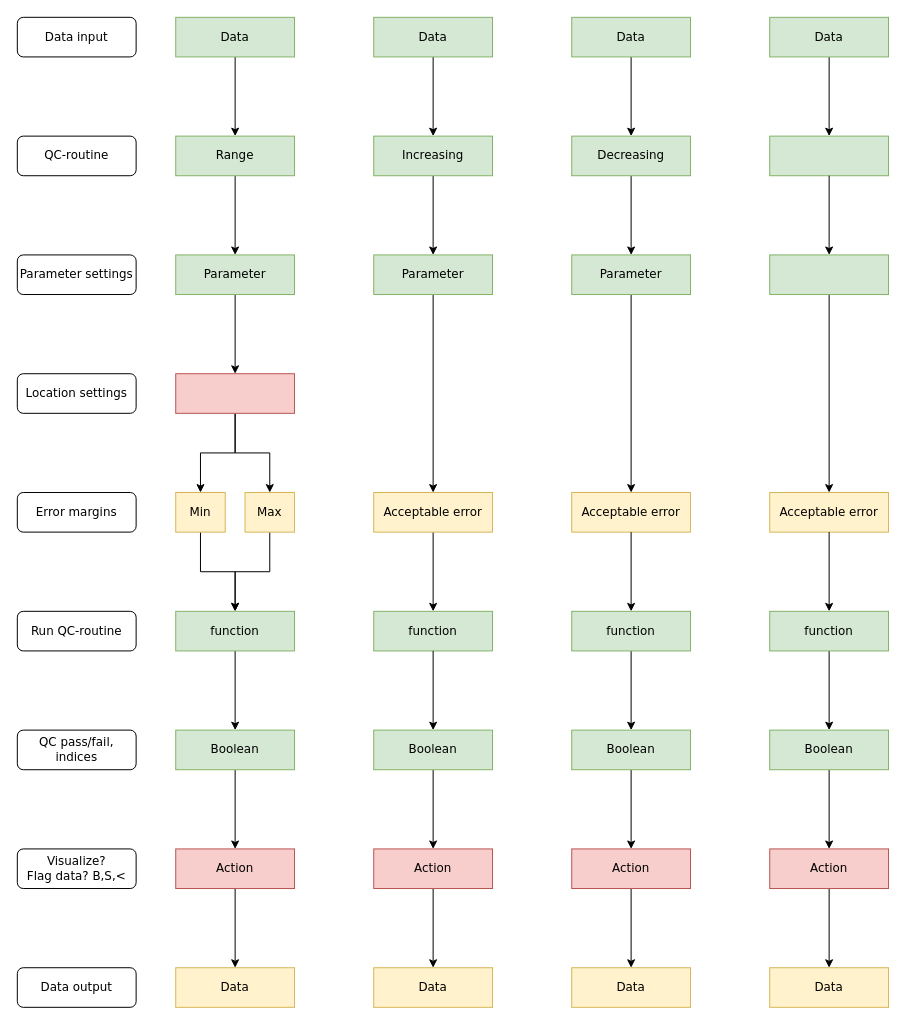
The diagram is 906 pixels wide and 1025 high, and some of its shapes have lost their labels. Here are the shapes that lost their labels. From the top down, the box of each, then its label:
(769, 135, 889, 176): DataDiff
(769, 254, 889, 295): Parameter s
(175, 373, 295, 413): Area
